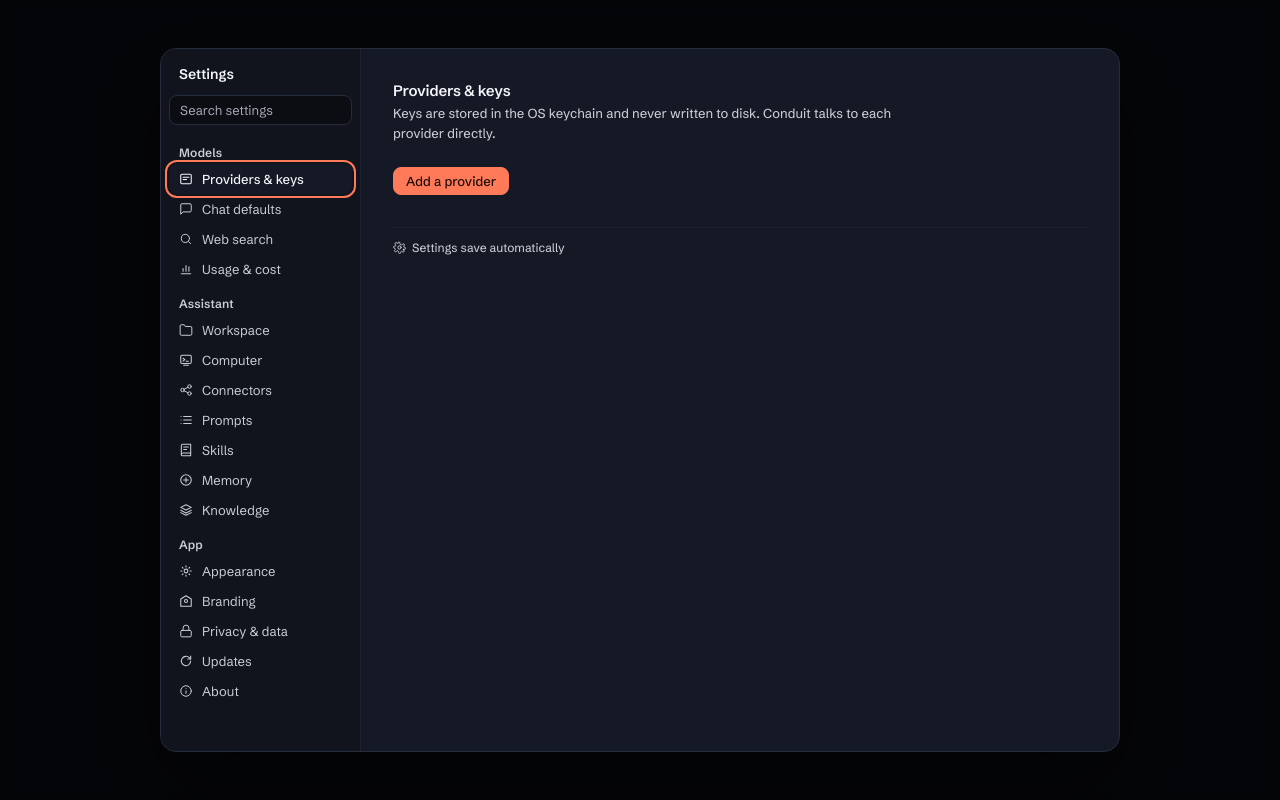
Test case: SettingsSheet › search › narrows the nav to sections holding a matching setting, and says which
Type "keychain" into the search field labelled "Search settings" at point(260, 110), box [169,95,352,125]
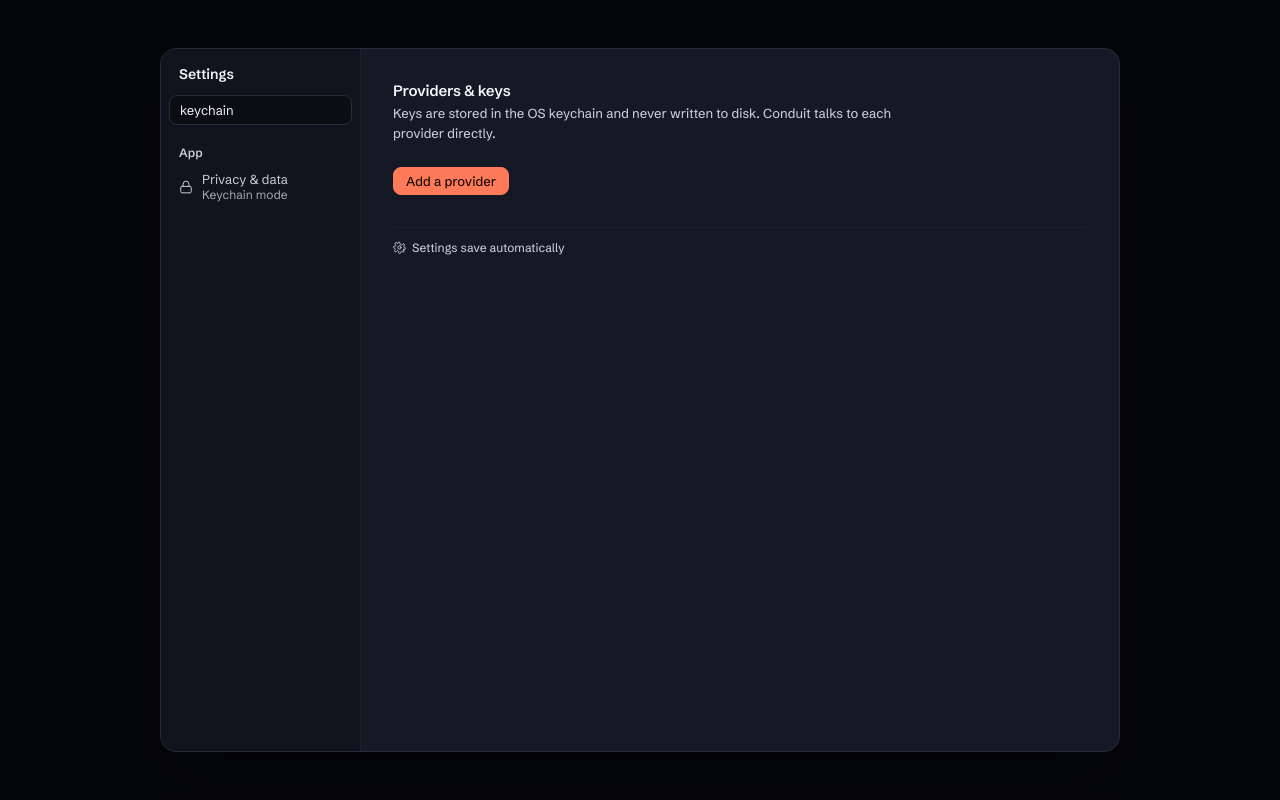
Expected: the navigation bar shows "Keychain mode", [169,164,352,209]
